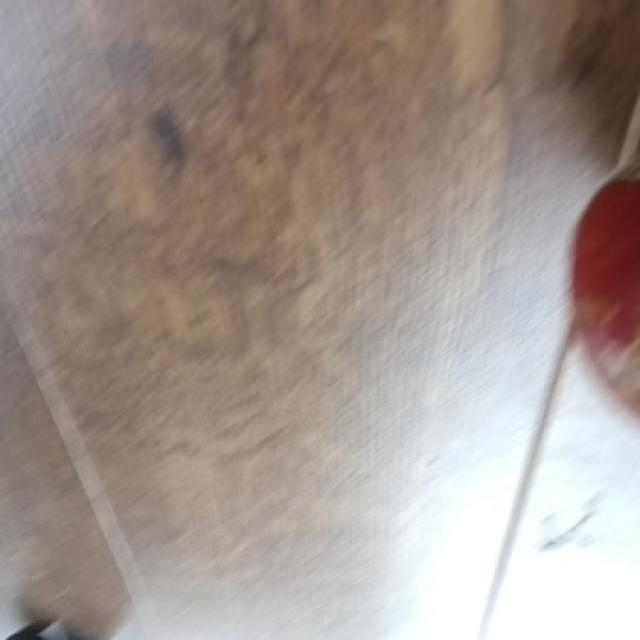ball: (572, 179, 640, 427)
